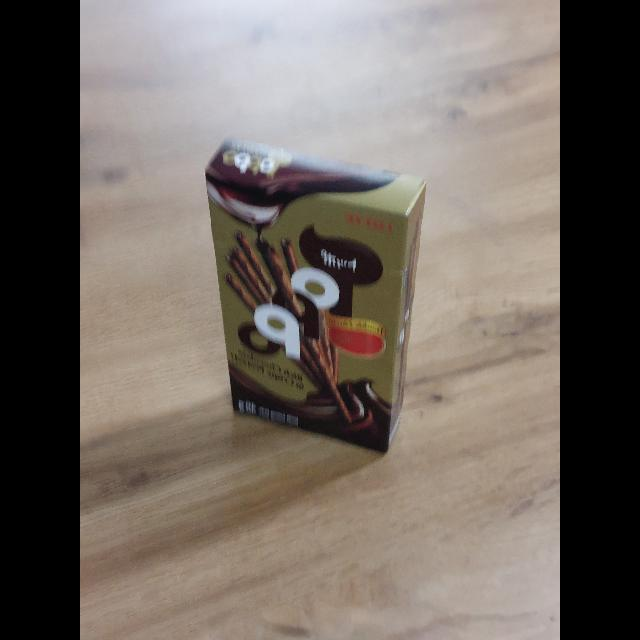banh_toppo_socola: (205, 139, 428, 457)
